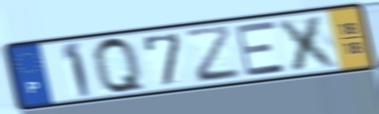1: (60, 41, 94, 99)
7: (141, 31, 183, 88)
E: (233, 19, 289, 79)
Q: (90, 34, 150, 96)
X: (274, 12, 344, 73)
Z: (182, 23, 246, 85)
